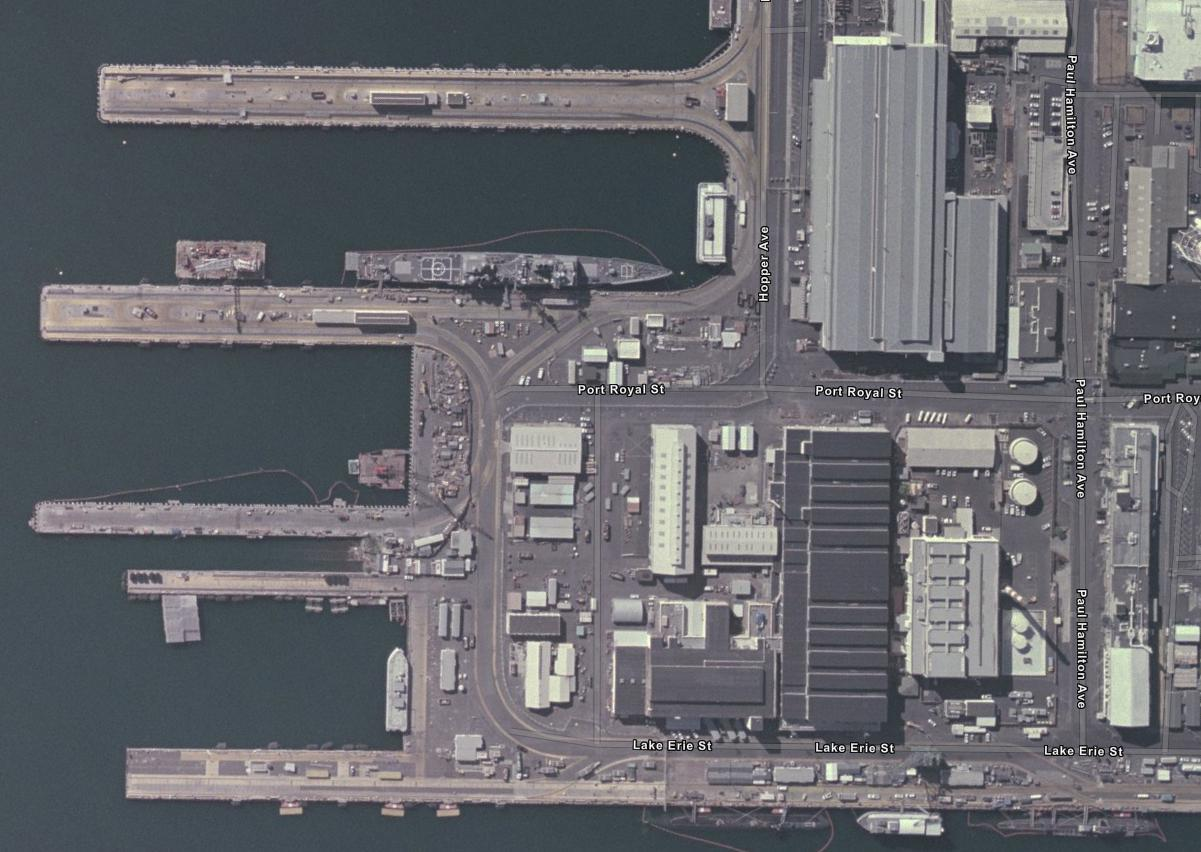cruiser: (353, 243, 680, 300)
